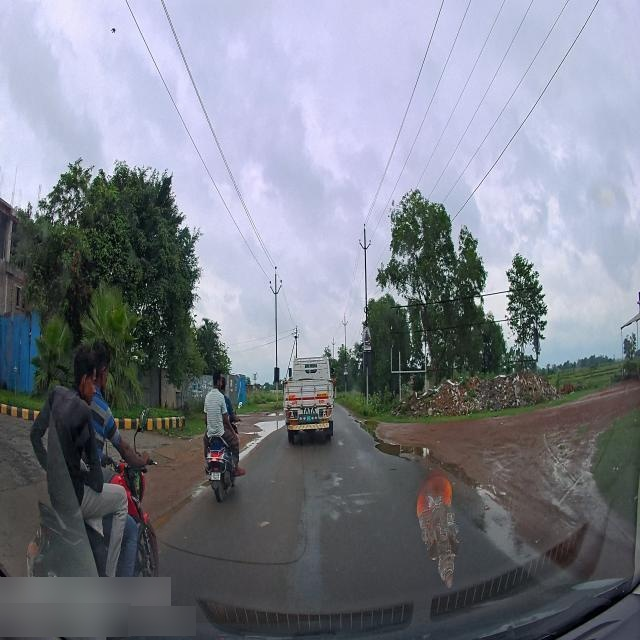pothole: (379, 441, 419, 456), (250, 418, 282, 432), (362, 420, 380, 438)
